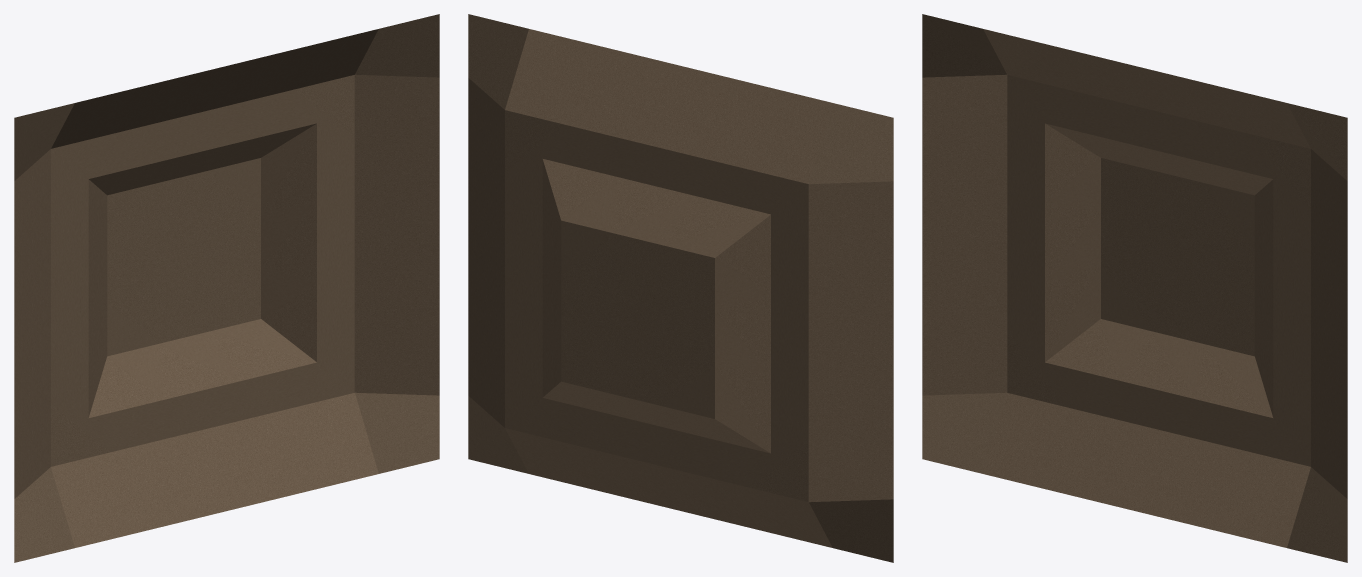
The model's file is desert_land_2.FBX.
3 renders of one model, left to right at view 1: azimuth 30°, elevation 25°; view 2: azimuth 150°, elevation 25°; view 3: azimuth 330°, elevation 25°, orthographic.
Visible parts, largest first — view 1: Plane.001; view 2: Plane.001; view 3: Plane.001.
Part boxes in pixels (left/top/right/bottom): Plane.001: left=14, top=14, right=439, bottom=562; Plane.001: left=468, top=14, right=893, bottom=562; Plane.001: left=922, top=14, right=1347, bottom=562.
Bounding box in the file's own units: 2355 × 2355 × 411.
